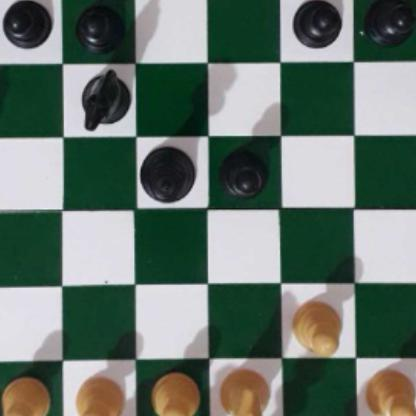black-king: (137, 144, 194, 202)
black-knight: (78, 67, 128, 127)
black-pawn: (216, 144, 269, 197), (1, 0, 49, 49), (291, 0, 341, 47), (75, 0, 122, 50), (366, 0, 415, 45)
white-knight: (219, 364, 274, 416)
white-pawn: (289, 297, 341, 355), (363, 364, 416, 416), (148, 369, 199, 416), (72, 372, 122, 416), (0, 374, 50, 416)
